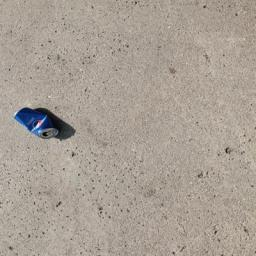FOD: (14, 96, 79, 152)
